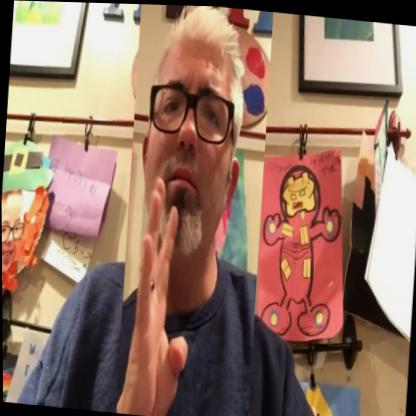Talk: (112, 3, 275, 416)
